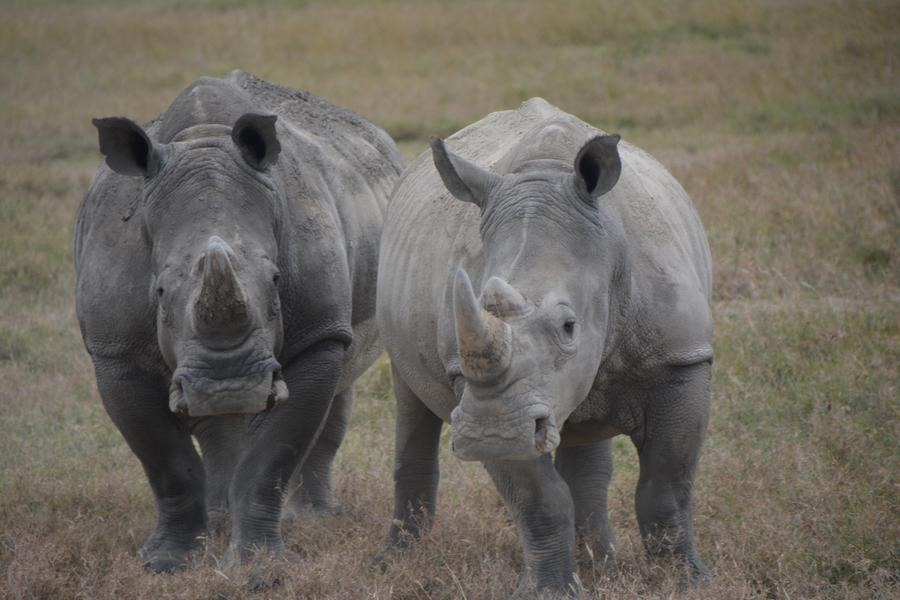rhino: (391, 105, 746, 563), (104, 63, 379, 530)
